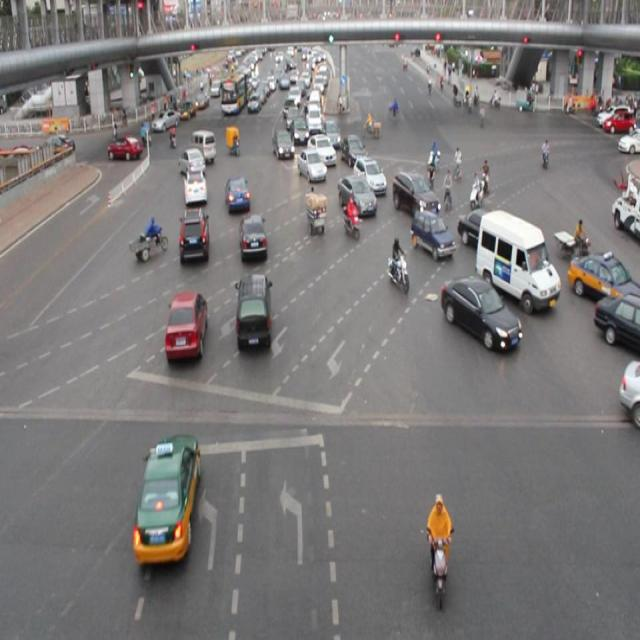car: (133, 432, 200, 566), (440, 275, 520, 351), (566, 250, 640, 308), (235, 272, 272, 354), (164, 291, 206, 363), (593, 290, 640, 354), (458, 205, 512, 255), (390, 168, 438, 218), (410, 209, 455, 259), (336, 172, 376, 218), (179, 207, 210, 264), (617, 354, 640, 421), (238, 212, 268, 263), (352, 156, 386, 196), (182, 166, 209, 207), (296, 147, 326, 182), (306, 133, 337, 166), (223, 177, 251, 213), (107, 135, 142, 162), (178, 148, 206, 179), (342, 133, 368, 166), (271, 127, 294, 160)
truck: (473, 208, 558, 306), (190, 128, 217, 164)
